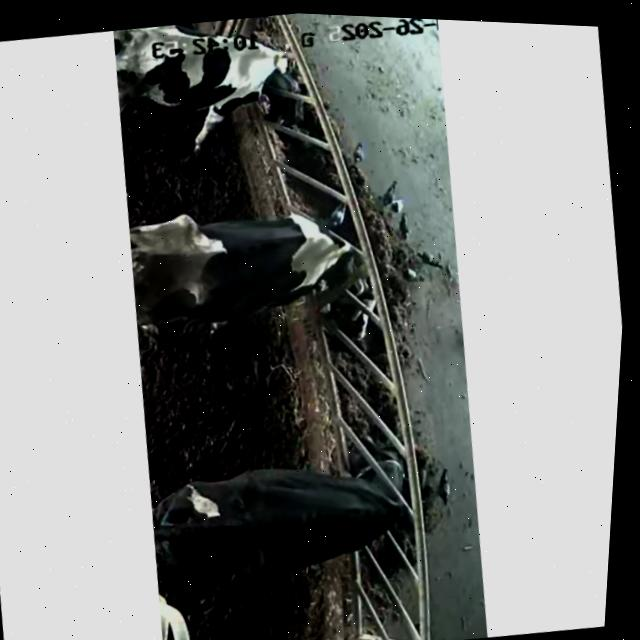eat: (163, 10, 365, 158), (243, 187, 425, 319), (301, 423, 472, 563)
